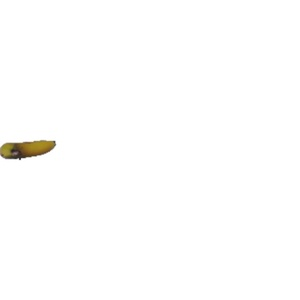banana: (1, 136, 60, 166)
